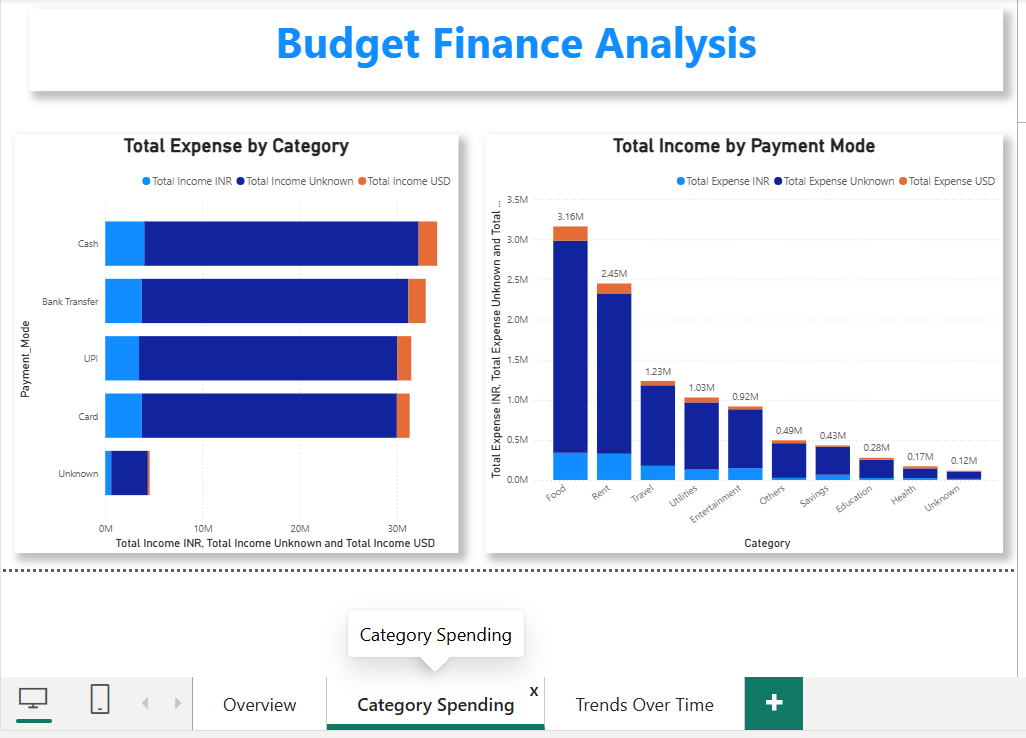

The dashboard page shown, as its layout file describes it:
{"tool":"powerbi","page":{"name":"Category Spending","canvas":[1280,720],"ordinal":1},"visuals":[{"type":"columnChart","title":"Total Income by Payment Mode","fields":{"Category":["BudgedWise_Finance_Clean.Category"],"Y":["BudgedWise_Finance_Clean.Total Expense INR","BudgedWise_Finance_Clean.Total Expense Unknown","BudgedWise_Finance_Clean.Total Expense USD"]},"box":[610.4,172,652,527.2],"z":0},{"type":"barChart","title":"Total Expense by Category","fields":{"Category":["BudgedWise_Finance_Clean.Payment_Mode"],"Y":["BudgedWise_Finance_Clean.Total Income INR","BudgedWise_Finance_Clean.Total Income Unknown","BudgedWise_Finance_Clean.Total Income USD"]},"box":[17,172,559.4,527.2],"z":1},{"type":"textbox","box":[35.9,13.2,1226.5,103.9],"z":2}]}

Visuals, with their boxes on the page's 1280x720 design canvas (x1, y1, x2, y2). These are canvas units, not pixel positions in the 1026x738 screenshot, which may show the page scaled, cropped or inside an application window:
"Total Income by Payment Mode" columnChart: locate(610, 172, 1262, 699)
"Total Expense by Category" barChart: locate(17, 172, 576, 699)
textbox: locate(36, 13, 1262, 117)
